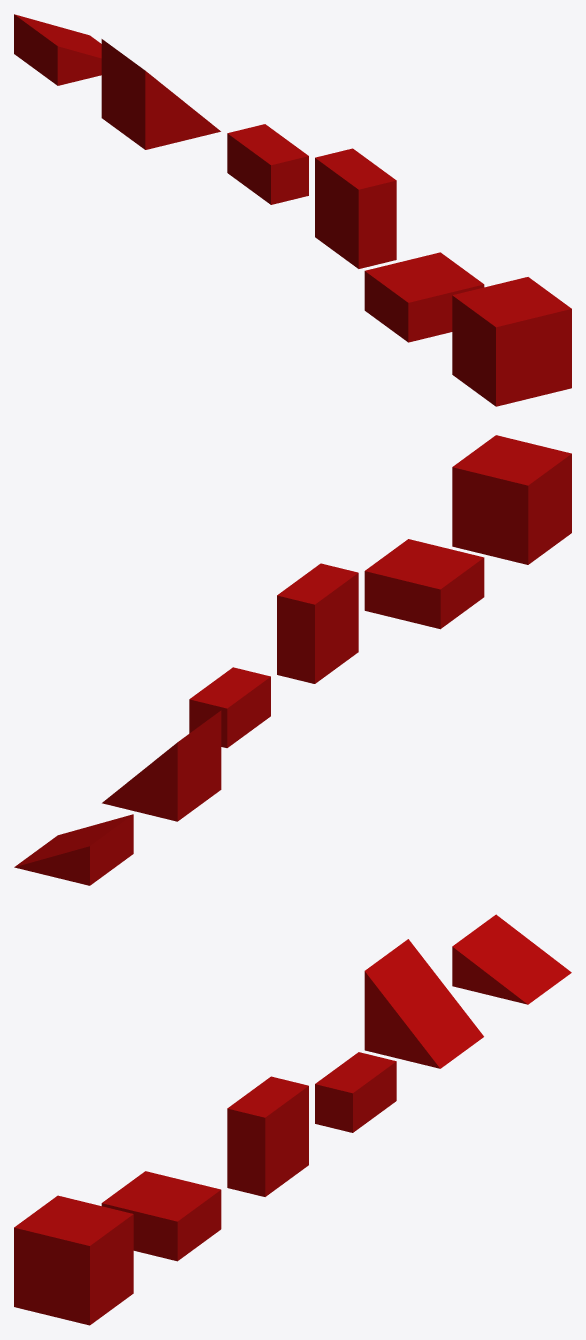
Rendered from Practice_Tilemap_V0.glb.
The picture shows the model from 3 angles, top to bottom: view 1: azimuth 30°, elevation 25°; view 2: azimuth 150°, elevation 25°; view 3: azimuth 330°, elevation 25°; orthographic projection.
Visible parts, largest first — view 1: red_block_1x1y-col, red_block_0.5x1y-col, red_block_1x0.5y-col, red_ramp_1x1y-col, red_block_0.5x0.5y-col, red_ramp_1x0.5y-col; view 2: red_block_1x1y-col, red_block_0.5x1y-col, red_block_1x0.5y-col, red_ramp_1x1y-col, red_ramp_1x0.5y-col, red_block_0.5x0.5y-col; view 3: red_block_1x1y-col, red_ramp_1x1y-col, red_block_0.5x1y-col, red_block_1x0.5y-col, red_ramp_1x0.5y-col, red_block_0.5x0.5y-col.
Part boxes in pixels (left/top/right/bottom): red_block_1x1y-col: left=452, top=277, right=571, bottom=406; red_block_0.5x1y-col: left=315, top=148, right=396, bottom=268; red_block_1x0.5y-col: left=364, top=252, right=484, bottom=342; red_ramp_1x1y-col: left=101, top=39, right=220, bottom=149; red_block_0.5x0.5y-col: left=227, top=124, right=308, bottom=204; red_ramp_1x0.5y-col: left=14, top=14, right=101, bottom=85; red_block_1x1y-col: left=452, top=435, right=571, bottom=564; red_block_0.5x1y-col: left=277, top=563, right=358, bottom=683; red_block_1x0.5y-col: left=364, top=539, right=484, bottom=629; red_ramp_1x1y-col: left=102, top=710, right=221, bottom=821; red_ramp_1x0.5y-col: left=14, top=814, right=133, bottom=885; red_block_0.5x0.5y-col: left=189, top=667, right=270, bottom=747; red_block_1x1y-col: left=14, top=1195, right=133, bottom=1325; red_ramp_1x1y-col: left=364, top=939, right=483, bottom=1068; red_block_0.5x1y-col: left=227, top=1076, right=308, bottom=1196; red_block_1x0.5y-col: left=101, top=1171, right=221, bottom=1261; red_ramp_1x0.5y-col: left=452, top=914, right=571, bottom=1004; red_block_0.5x0.5y-col: left=315, top=1052, right=396, bottom=1132.
Bounding box in the file's own units: 1 × 1 × 11.
